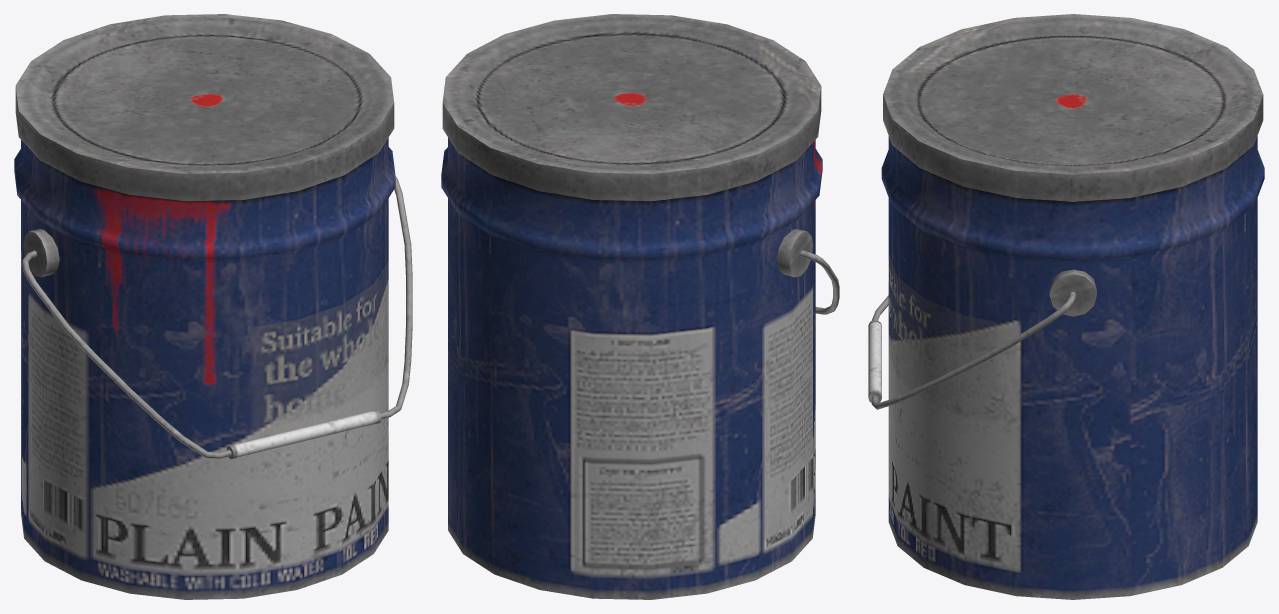
File: Paint_Bucket.fbx
3 views of the same model, side by side, from view 1: azimuth 30°, elevation 25°; view 2: azimuth 150°, elevation 25°; view 3: azimuth 270°, elevation 25° (orthographic).
Parts seen in each view (by area): view 1: Paint_Bucket_LOD0; view 2: Paint_Bucket_LOD0; view 3: Paint_Bucket_LOD0.
Part boxes in pixels (<box>): Paint_Bucket_LOD0: <box>14,14,412,599</box>; Paint_Bucket_LOD0: <box>441,14,839,599</box>; Paint_Bucket_LOD0: <box>868,14,1264,599</box>.
Size of what is drawn, in the model's own units: 37.79 by 41.39 by 34.76.
